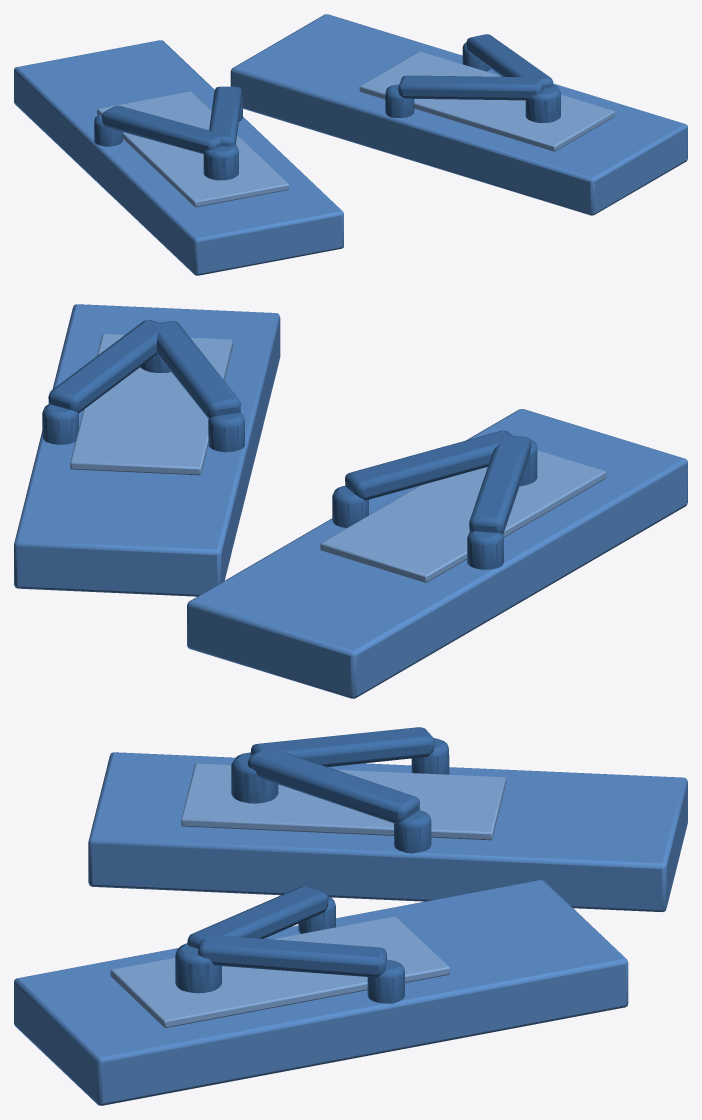
File: DepToOng_Fix.glb
3 renders of one model, top to bottom at view 1: azimuth 30°, elevation 25°; view 2: azimuth 150°, elevation 25°; view 3: azimuth 270°, elevation 25°, orthographic. The views are drawn at different scales.
Parts seen in each view (by area): view 1: DepToOng_Fix; view 2: DepToOng_Fix; view 3: DepToOng_Fix.
Boxes of the visible parts, x1=… form: DepToOng_Fix: x1=14, y1=14, x2=687, y2=275; DepToOng_Fix: x1=14, y1=304, x2=687, y2=698; DepToOng_Fix: x1=14, y1=727, x2=687, y2=1105.
Size of the model in its own units: 0.3262 by 0.0498 by 0.3014.
